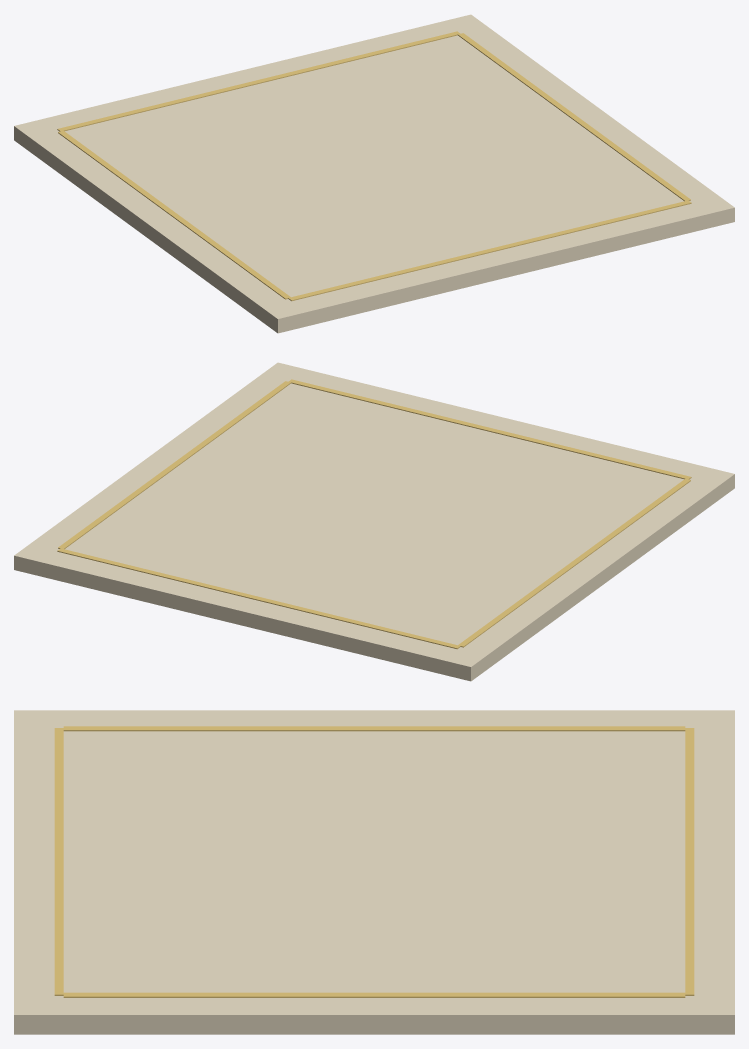
File: legendary-warriors-kit-gallery-floor-tile-0c1eb46c__39223.glb
The picture shows the model from 3 angles, top to bottom: view 1: azimuth 30°, elevation 25°; view 2: azimuth 150°, elevation 25°; view 3: azimuth 270°, elevation 25°; orthographic projection. The views are drawn at different scales.
Visible parts, largest first — view 1: gallery-floor-tile; view 2: gallery-floor-tile; view 3: gallery-floor-tile.
Part boxes in pixels (box(x1,y1,x2,y2)): gallery-floor-tile: box(14, 14, 734, 333); gallery-floor-tile: box(14, 362, 734, 681); gallery-floor-tile: box(14, 710, 734, 1034).
Size of the model in its own units: 4 by 0.128 by 4.
